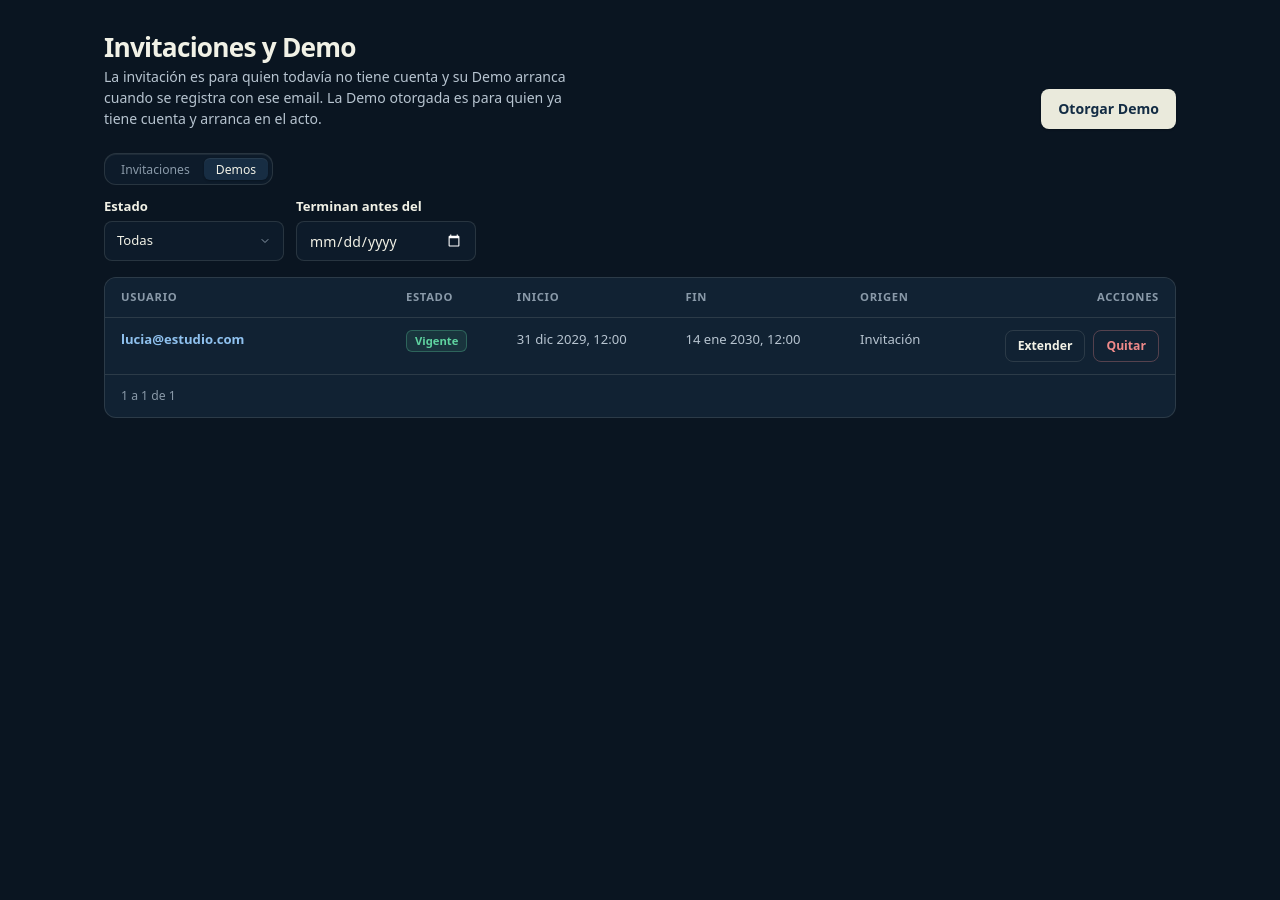
InvitationsScreen › warns that a live subscription wins over the Demo and shows the refusal
This screenshot has width=1280, height=900.
Expected: the link "lucia@estudio.com" is shown, top-left (121, 330), bottom-right (244, 348)
Click the button "Otorgar Demo" at (1109, 110), box top-left (1041, 90), bottom-right (1176, 130)
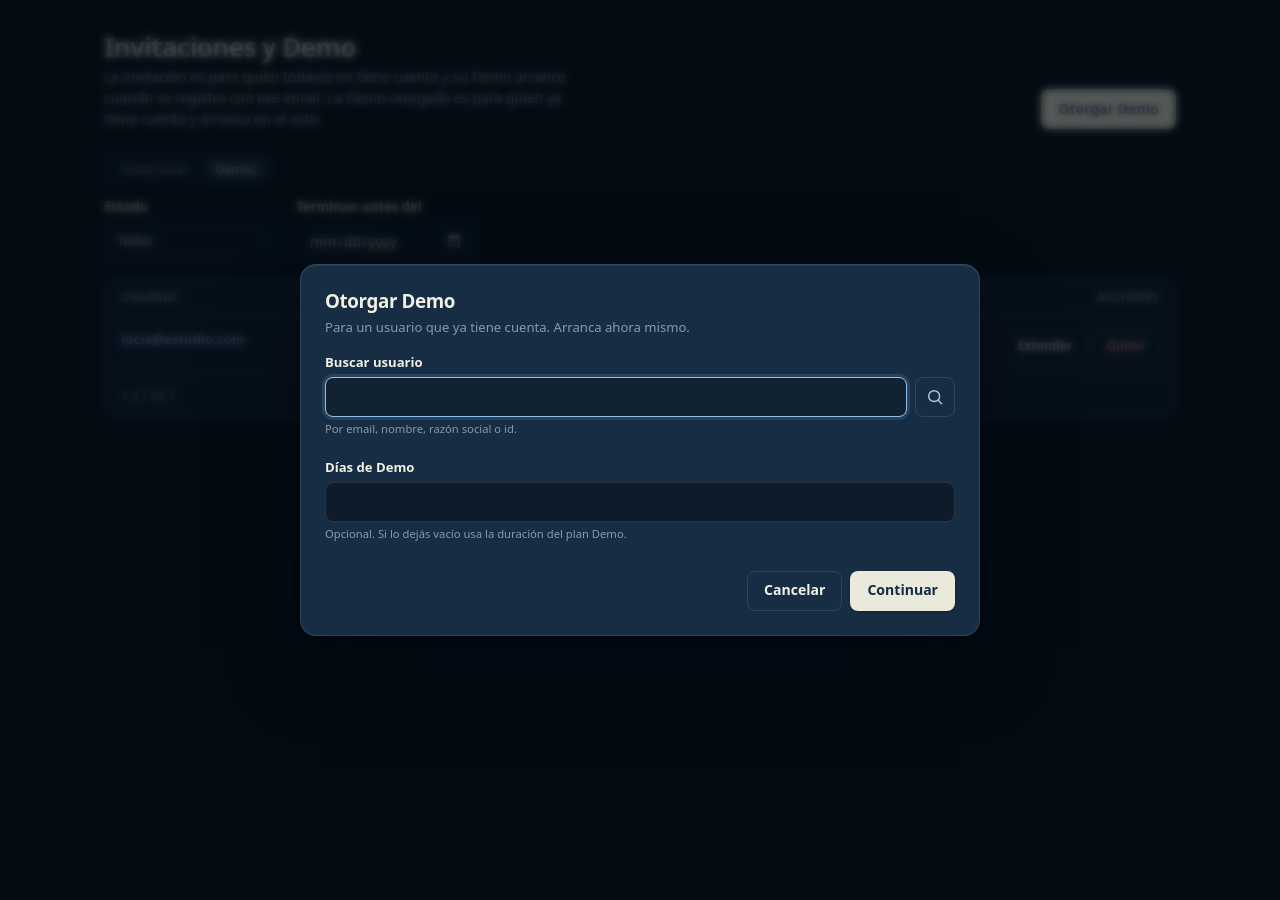
Type "diego" into the search field labelled "Buscar usuario" at (616, 397), box top-left (325, 377), bottom-right (907, 417)
Then press Enter
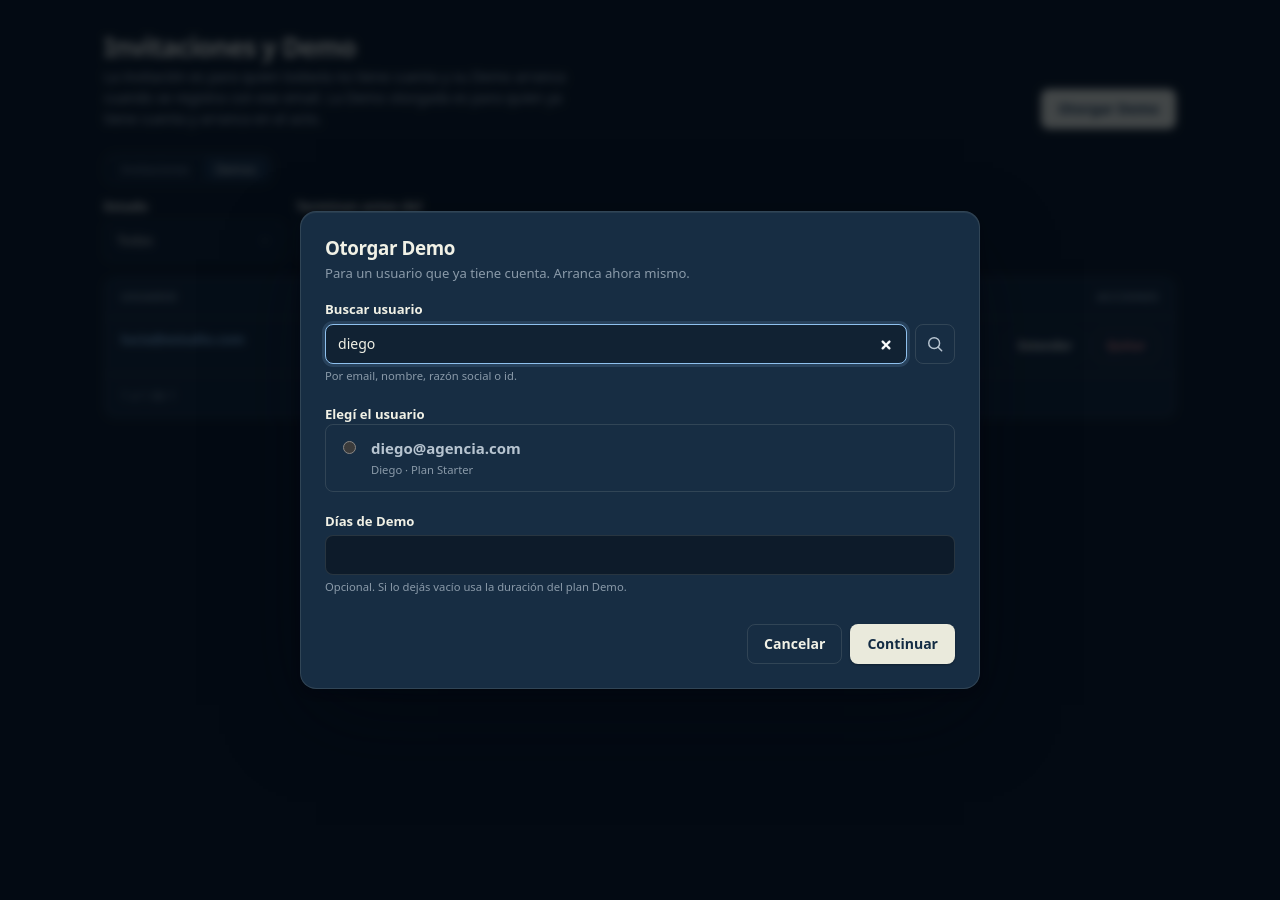
Click the radio button labelled "diego@agencia.com Diego · Plan Starter" at (350, 448), box top-left (343, 441), bottom-right (356, 454)
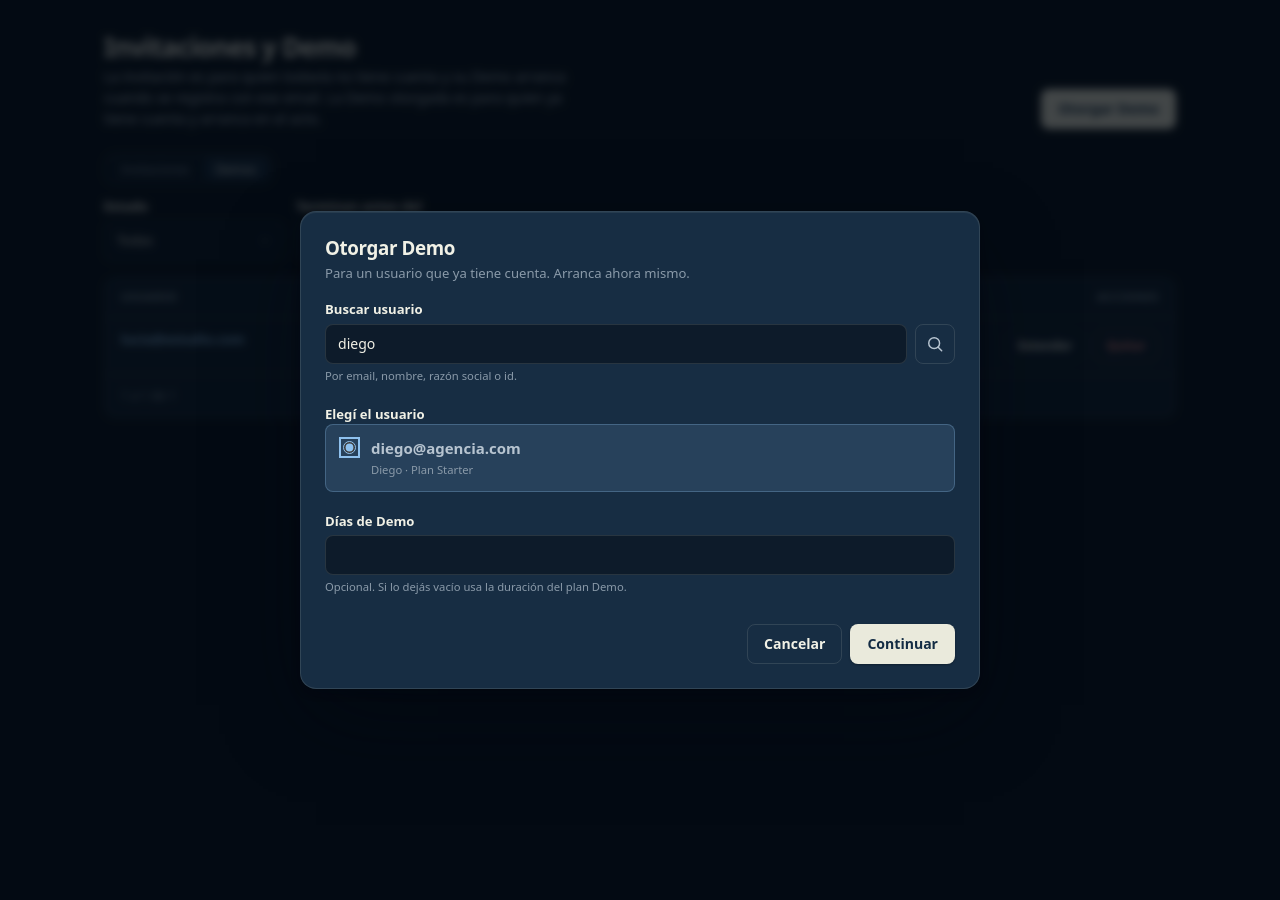
Click the button "Continuar" at (903, 644), box top-left (850, 624), bottom-right (955, 664)
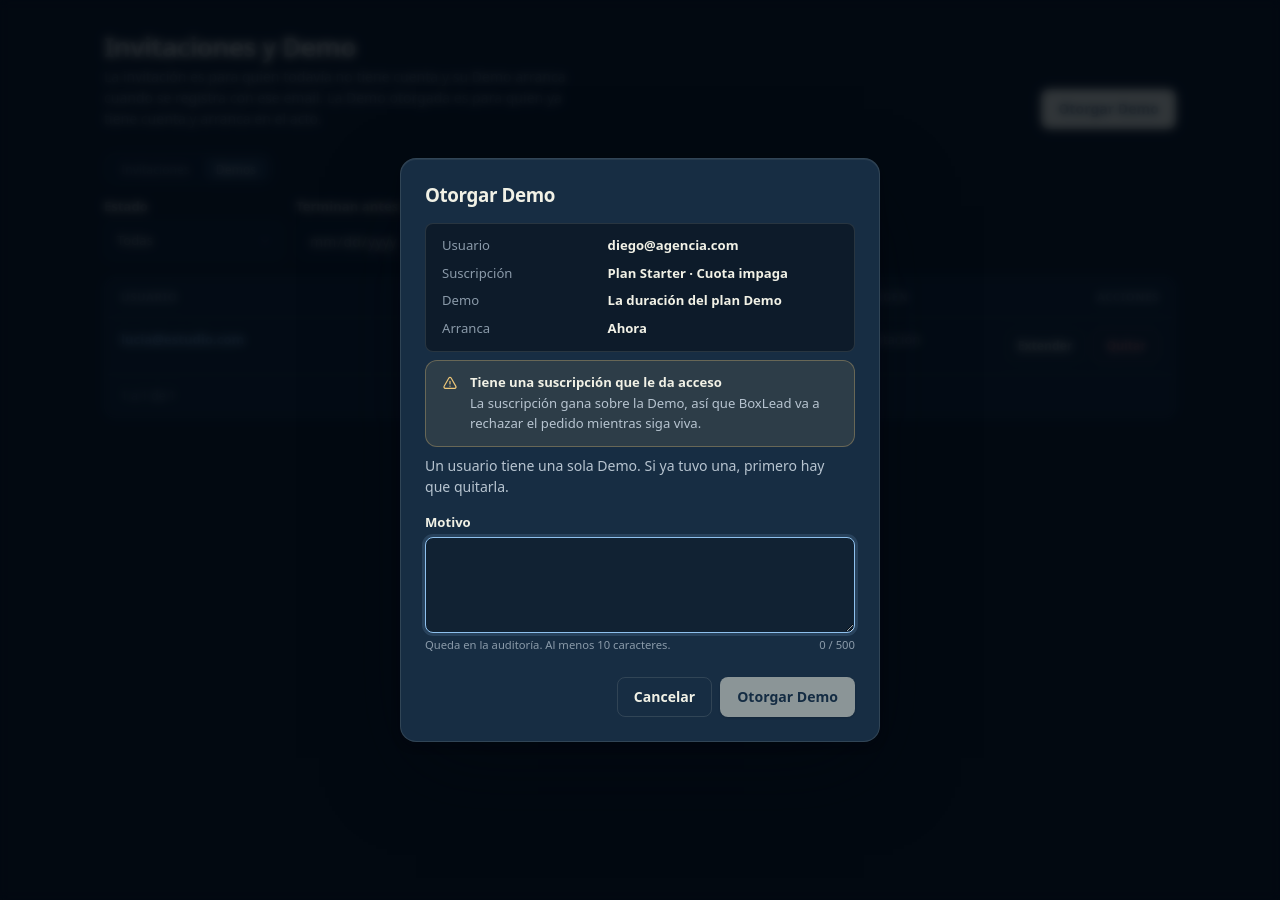
Result: the text "Tiene una suscripción que le da acceso" is shown at top-left (470, 373), bottom-right (722, 391)
Result: the text "Plan Starter · Cuota impaga" is shown at top-left (608, 264), bottom-right (788, 282)
Type "Pedido del equipo comercial" into the text box labelled "Motivo" at (640, 585), box top-left (425, 537), bottom-right (855, 633)
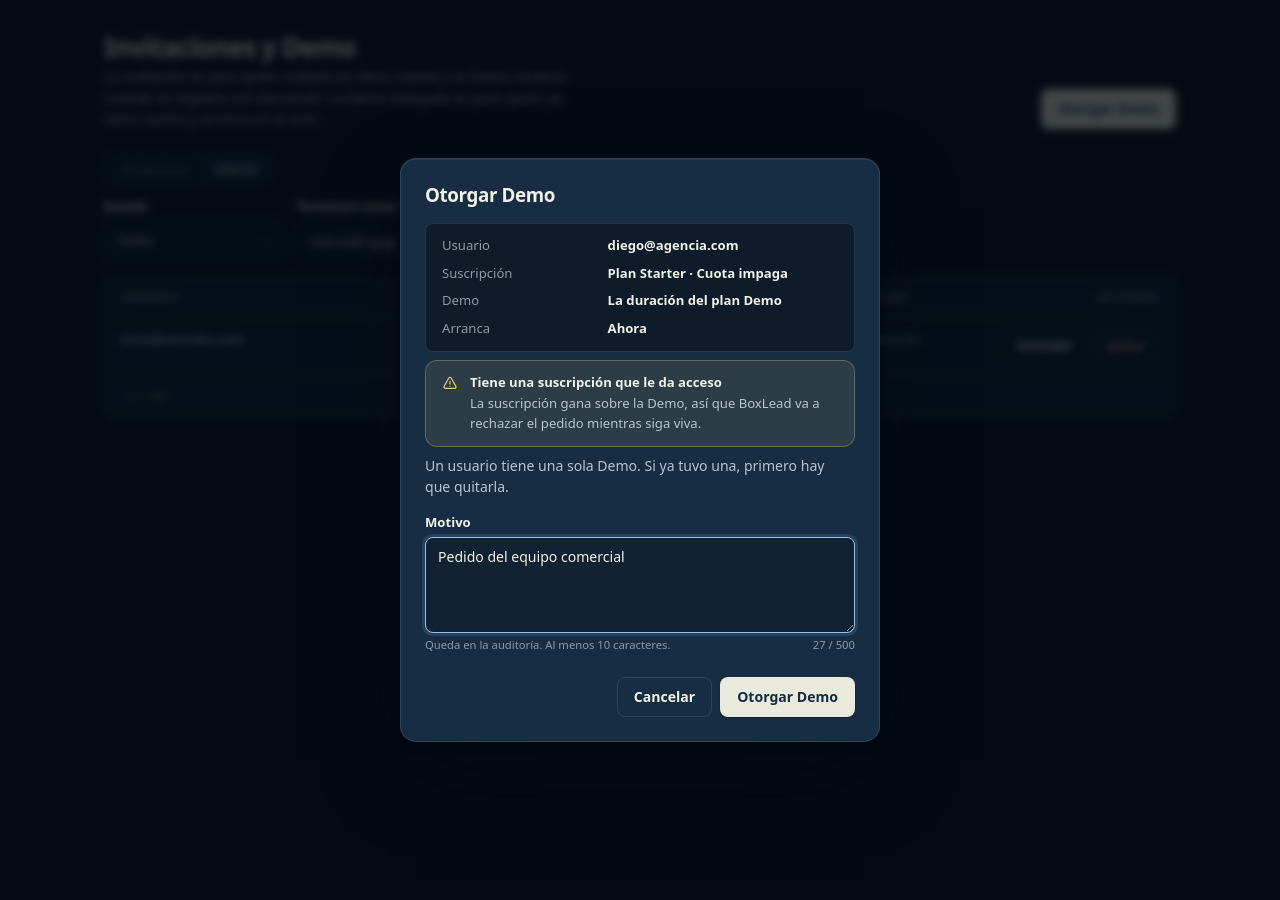
Click the button "Otorgar Demo" at (788, 698), box top-left (720, 678), bottom-right (855, 718)
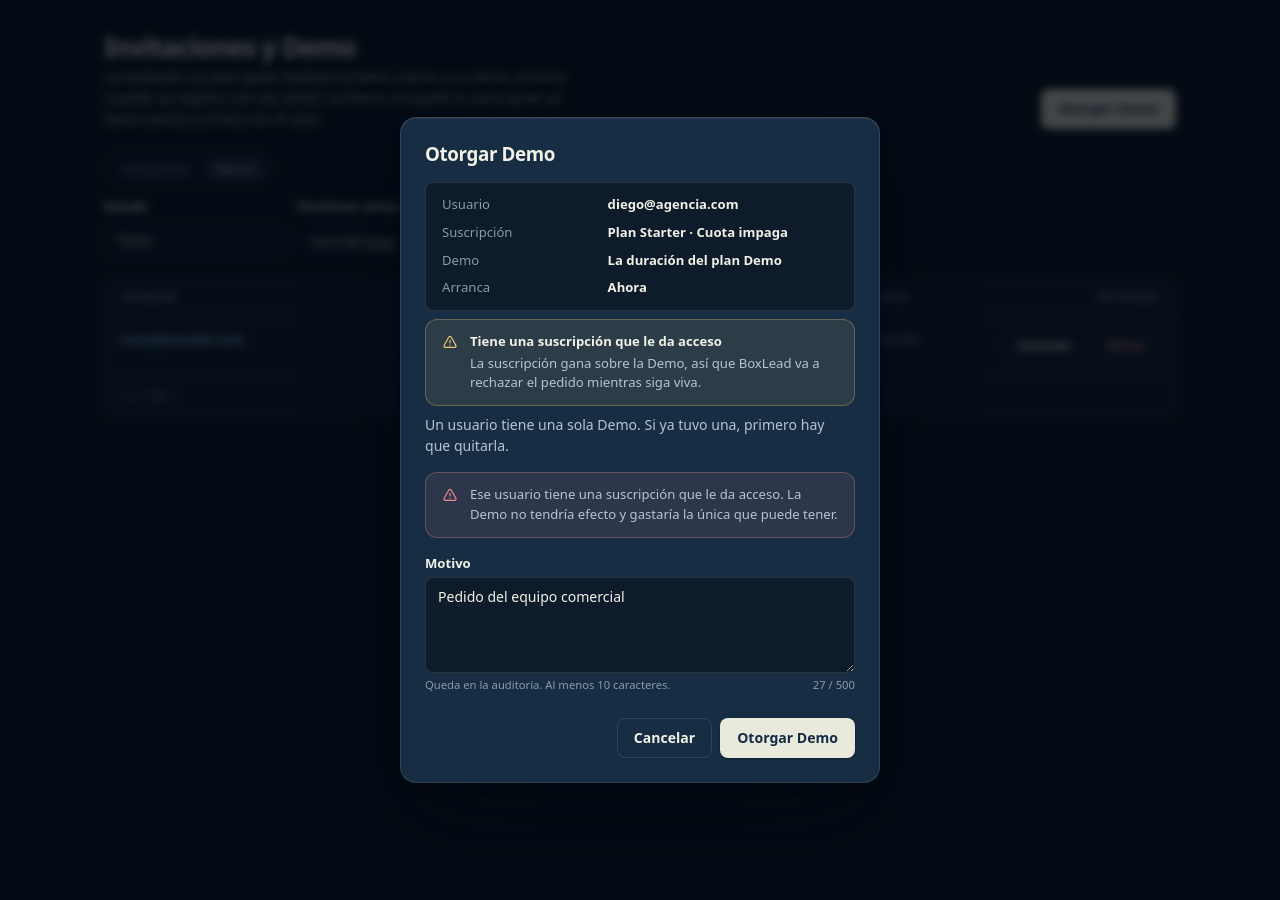
Result: the text "Ese usuario tiene una suscripción que le da acceso" is shown at top-left (470, 485), bottom-right (838, 523)
